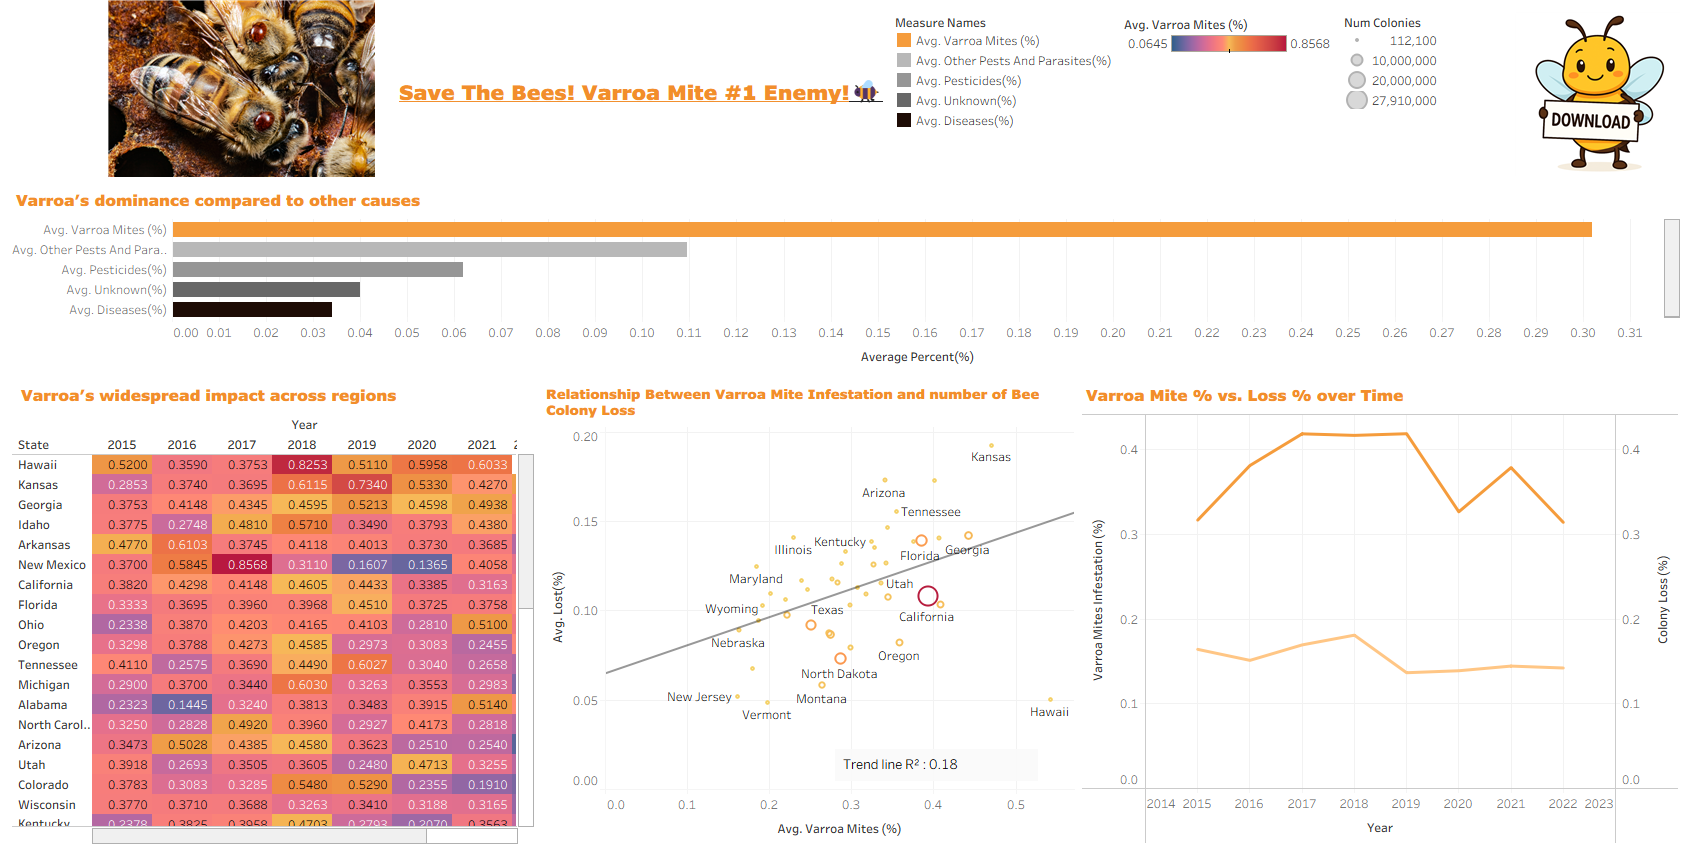

The page's visual inventory and layout, read from the dashboard file:
{"tool":"tableau","page":{"name":"Dashboard 2","canvas":[1000,1000],"units":"permille","ordinal":0},"visuals":[{"type":"image","param":"Image/_20220406_on_varroadestructor_minden_00463080.jpg","box":[6.5,0,273.1,206.8]},{"type":"text","box":[4.7,9.3,521.3,202.1]},{"type":"legend","title":"Varroa’s dominance compared to other causes","param":"[federated.07ia8mi070qf021gxrg1d1k4hkjg].[:Measure Names]","box":[526,9.3,135.9,202.1]},{"type":"legend","title":" Varroa’s widespread impact across regions","param":"[federated.07ia8mi070qf021gxrg1d1k4hkjg].[avg:varroa_mites (%):qk]","box":[661.9,9.3,129.4,202.1]},{"type":"legend","title":"Relationship Between Varroa Mite Infestation and number of Bee Colony Loss","param":"[federated.07ia8mi070qf021gxrg1d1k4hkjg].[sum:num_colonies:qk]","box":[791.4,9.3,101.7,202.1]},{"type":"dashboard-object","box":[893,9.3,102.2,202.1]},{"type":"worksheet","title":"Varroa’s dominance compared to other causes","mark":"Automatic","box":[4.7,211.5,990.5,227.8]},{"type":"worksheet","title":" Varroa’s widespread impact across regions","mark":"Square","rows":["state"],"cols":["year"],"box":[4.7,439.2,313.2,551.4]},{"type":"worksheet","title":"Relationship Between Varroa Mite Infestation and number of Bee Colony Loss","mark":"Automatic","rows":["Lost(%)"],"cols":["varroa_mites (%)"],"box":[318,439.2,319.4,551.4]},{"type":"worksheet","title":"Varroa Mite % vs. Loss % over Time","mark":"Automatic","rows":["varroa_mites (%)","Lost(%)"],"cols":["year"],"box":[637.4,439.2,357.9,551.4]}]}

Visuals, with their boxes on the dashboard's canvas, which has no fixed pixel size, in thousandths of its width and height (x1, y1, x2, y2). These are canvas units, not pixel positions in the 1692x856 screenshot, which may show the page scaled, cropped or inside an application window:
image: x1=6, y1=0, x2=280, y2=207
text: x1=5, y1=9, x2=526, y2=211
"Varroa’s dominance compared to other causes" legend: x1=526, y1=9, x2=662, y2=211
" Varroa’s widespread impact across regions" legend: x1=662, y1=9, x2=791, y2=211
"Relationship Between Varroa Mite Infestation and number of Bee Colony Loss" legend: x1=791, y1=9, x2=893, y2=211
dashboard-object: x1=893, y1=9, x2=995, y2=211
"Varroa’s dominance compared to other causes" worksheet: x1=5, y1=212, x2=995, y2=439
" Varroa’s widespread impact across regions" worksheet (Square marks): x1=5, y1=439, x2=318, y2=991
"Relationship Between Varroa Mite Infestation and number of Bee Colony Loss" worksheet: x1=318, y1=439, x2=637, y2=991
"Varroa Mite % vs. Loss % over Time" worksheet: x1=637, y1=439, x2=995, y2=991
